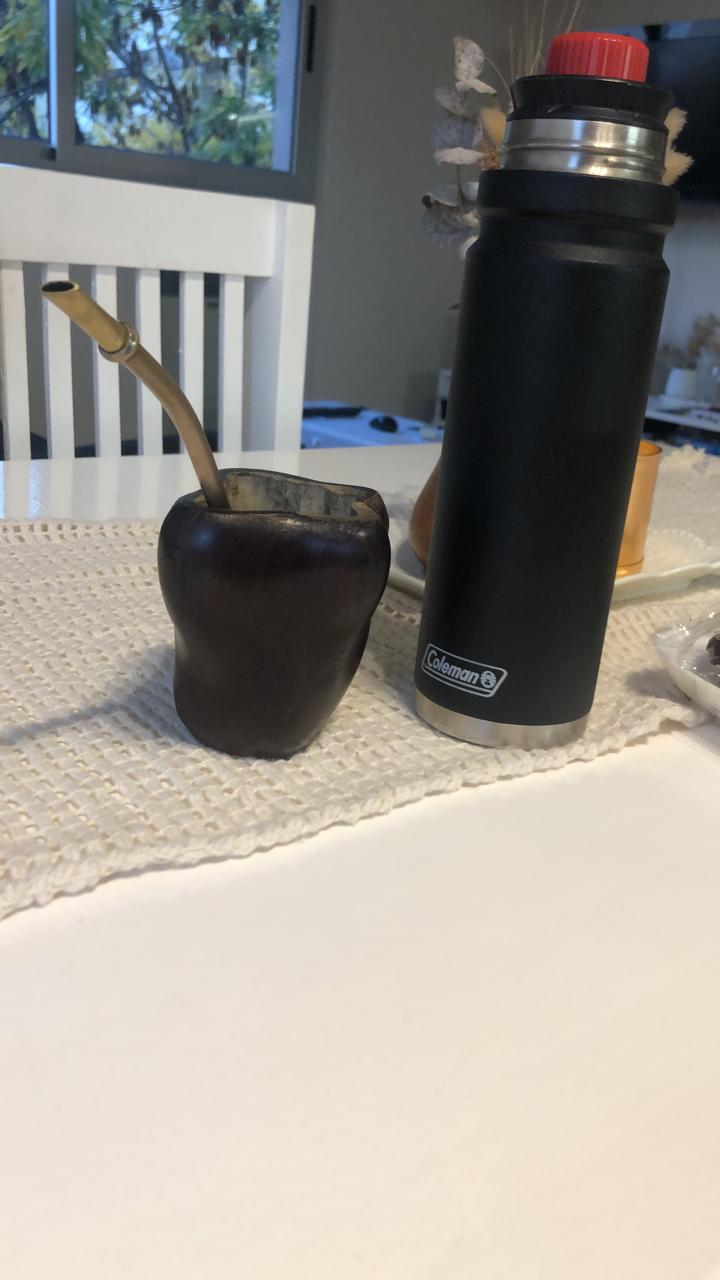mate: (154, 469, 398, 764)
